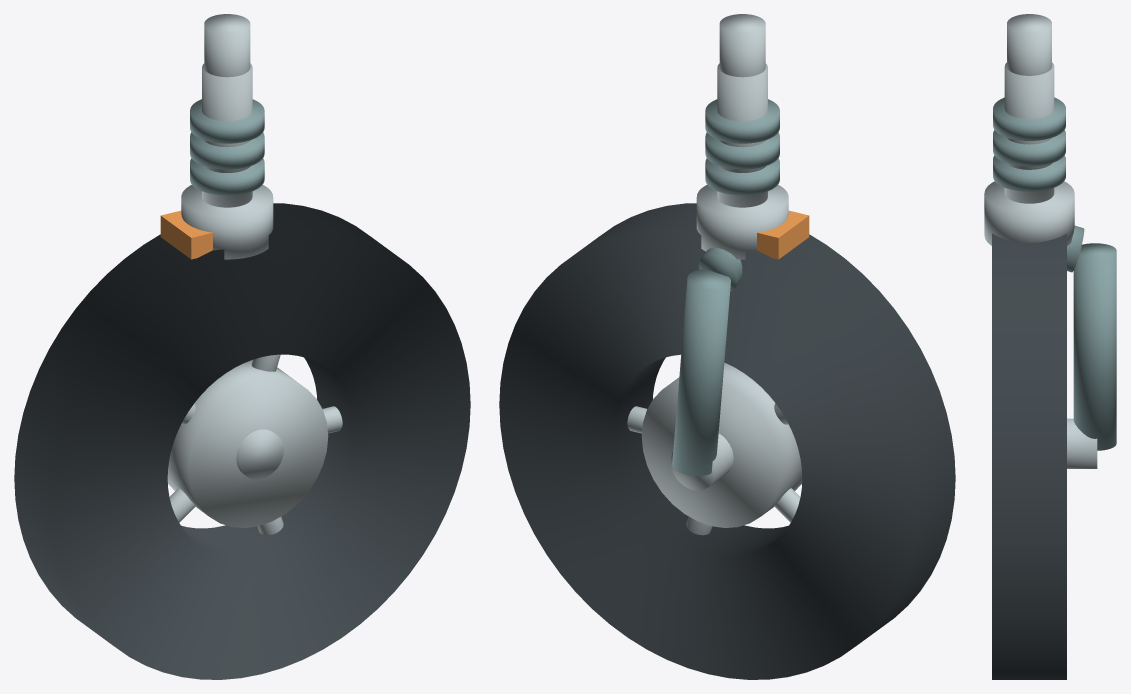
The model's file is wheel-front-left-m.glb.
3 views of the same model, side by side, from view 1: azimuth 30°, elevation 25°; view 2: azimuth 150°, elevation 25°; view 3: azimuth 270°, elevation 25° (orthographic). The views are drawn at different scales.
Parts seen in each view (by area): view 1: FL_tire.002, FL_sealed_hub.002, FL_steering_bearing.002, vertical_front_guide_-1.002, vertical_front_spigot_-1.002, front_light_elastomer_-1_2.002, FL_captive_axle.002, front_light_elastomer_-1_0.002, front_light_elastomer_-1_1.002, FL_straight_lock.002; view 2: FL_tire.002, FL_sealed_hub.002, FL_fork.002, FL_steering_bearing.002, vertical_front_guide_-1.002, vertical_front_spigot_-1.002, front_light_elastomer_-1_2.002, front_light_elastomer_-1_0.002, front_light_elastomer_-1_1.002, FL_straight_lock.002, FL_captive_axle.002, FL_fork_bridge.002; view 3: FL_tire.002, FL_fork.002, FL_steering_bearing.002, vertical_front_guide_-1.002, vertical_front_spigot_-1.002, front_light_elastomer_-1_2.002, front_light_elastomer_-1_1.002, front_light_elastomer_-1_0.002, FL_captive_axle.002, FL_fork_bridge.002.
Part boxes in pixels (left/top/right/bottom): FL_tire.002: left=14, top=203, right=470, bottom=679; FL_sealed_hub.002: left=167, top=360, right=328, bottom=527; FL_steering_bearing.002: left=181, top=184, right=273, bottom=259; vertical_front_guide_-1.002: left=202, top=63, right=252, bottom=207; vertical_front_spigot_-1.002: left=204, top=14, right=250, bottom=77; front_light_elastomer_-1_2.002: left=190, top=99, right=264, bottom=143; FL_captive_axle.002: left=236, top=429, right=283, bottom=479; front_light_elastomer_-1_0.002: left=190, top=158, right=264, bottom=195; front_light_elastomer_-1_1.002: left=190, top=132, right=264, bottom=169; FL_straight_lock.002: left=160, top=210, right=212, bottom=259; FL_tire.002: left=499, top=203, right=955, bottom=679; FL_sealed_hub.002: left=641, top=362, right=802, bottom=527; FL_fork.002: left=672, top=269, right=730, bottom=476; FL_steering_bearing.002: left=696, top=184, right=788, bottom=259; vertical_front_guide_-1.002: left=717, top=63, right=767, bottom=207; vertical_front_spigot_-1.002: left=719, top=14, right=765, bottom=77; front_light_elastomer_-1_2.002: left=705, top=99, right=779, bottom=143; front_light_elastomer_-1_0.002: left=705, top=158, right=779, bottom=195; front_light_elastomer_-1_1.002: left=705, top=132, right=779, bottom=169; FL_straight_lock.002: left=757, top=210, right=809, bottom=259; FL_captive_axle.002: left=670, top=433, right=733, bottom=490; FL_fork_bridge.002: left=698, top=247, right=742, bottom=291; FL_tire.002: left=992, top=233, right=1066, bottom=679; FL_fork.002: left=1073, top=243, right=1116, bottom=450; FL_steering_bearing.002: left=984, top=181, right=1074, bottom=245; vertical_front_guide_-1.002: left=1004, top=62, right=1054, bottom=203; vertical_front_spigot_-1.002: left=1007, top=14, right=1051, bottom=75; front_light_elastomer_-1_2.002: left=993, top=97, right=1065, bottom=140; front_light_elastomer_-1_1.002: left=993, top=130, right=1065, bottom=166; front_light_elastomer_-1_0.002: left=993, top=155, right=1065, bottom=191; FL_captive_axle.002: left=1067, top=418, right=1097, bottom=468; FL_fork_bridge.002: left=1067, top=225, right=1084, bottom=272.
Size of the model in its own units: 0.22 by 0.322 by 0.0615.
